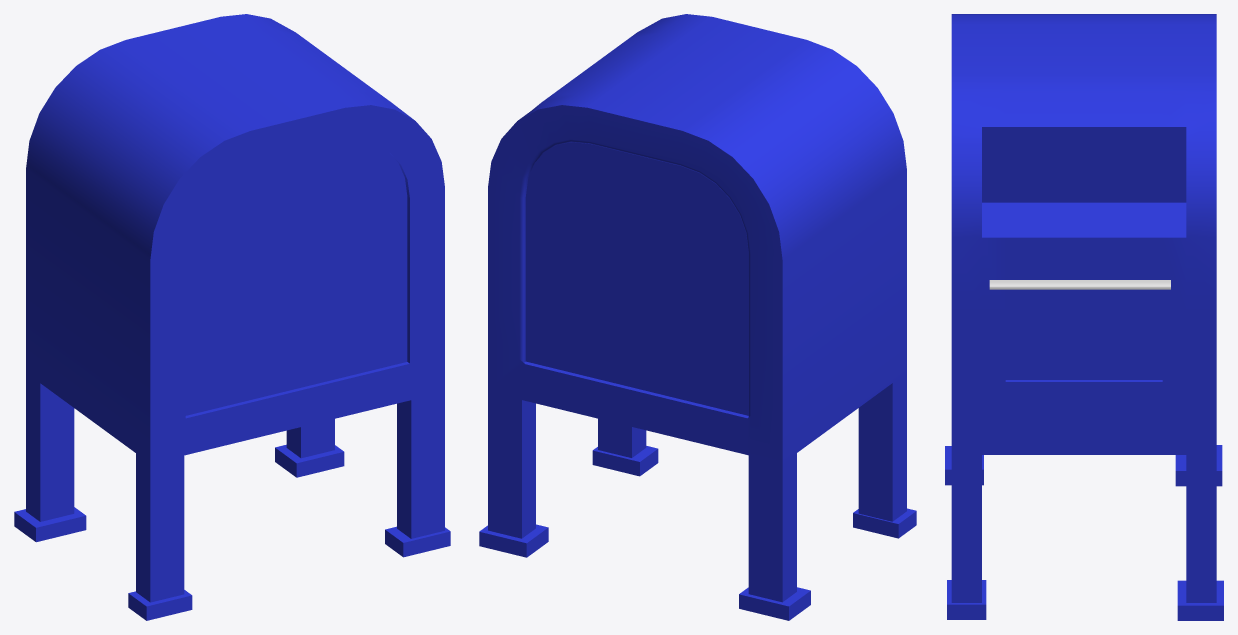
The model's file is mailbox.fbx.
3 views of the same model, side by side, from view 1: azimuth 30°, elevation 25°; view 2: azimuth 150°, elevation 25°; view 3: azimuth 270°, elevation 25° (orthographic). The views are drawn at different scales.
Visible parts, largest first — view 1: Cube; view 2: Cube; view 3: Cube.
Part boxes in pixels (x1,y1,x2,y2): Cube: (14,14,450,620); Cube: (479,14,916,620); Cube: (945,14,1223,620).
Bounding box in the file's own units: 213 × 299 × 154.
